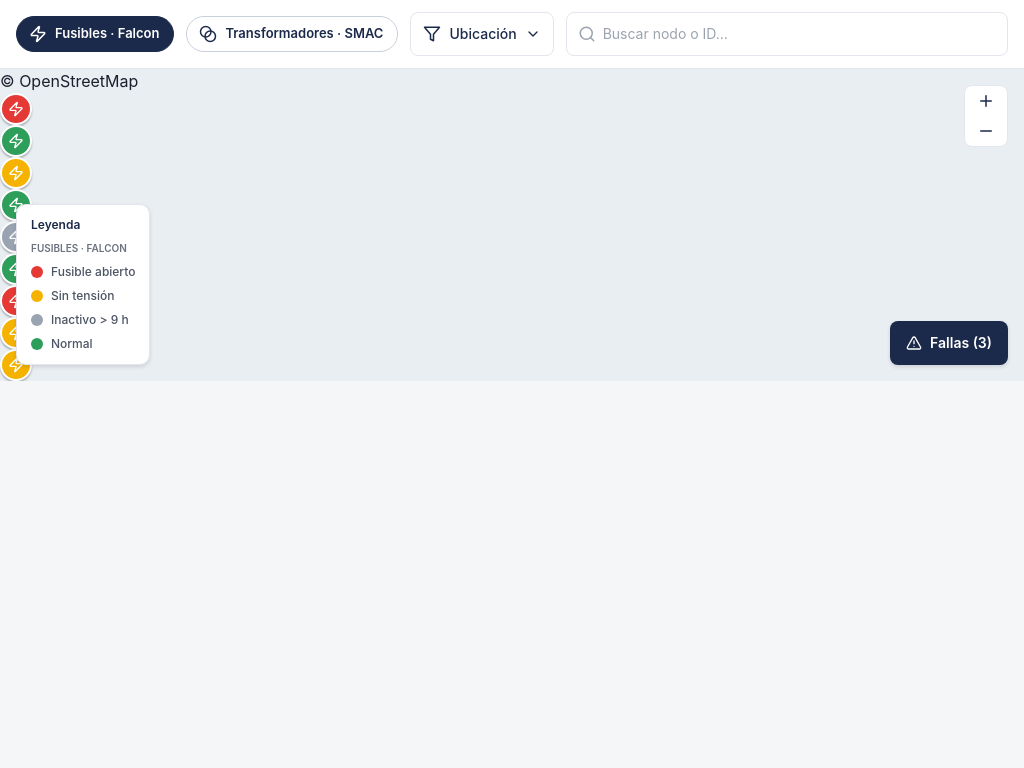
Test: LiveMonitoringPage › opens the mobile fault sheet and closes it from its close control
Click the button "Fallas (3)" at (949, 343), box [890, 321, 1008, 365]
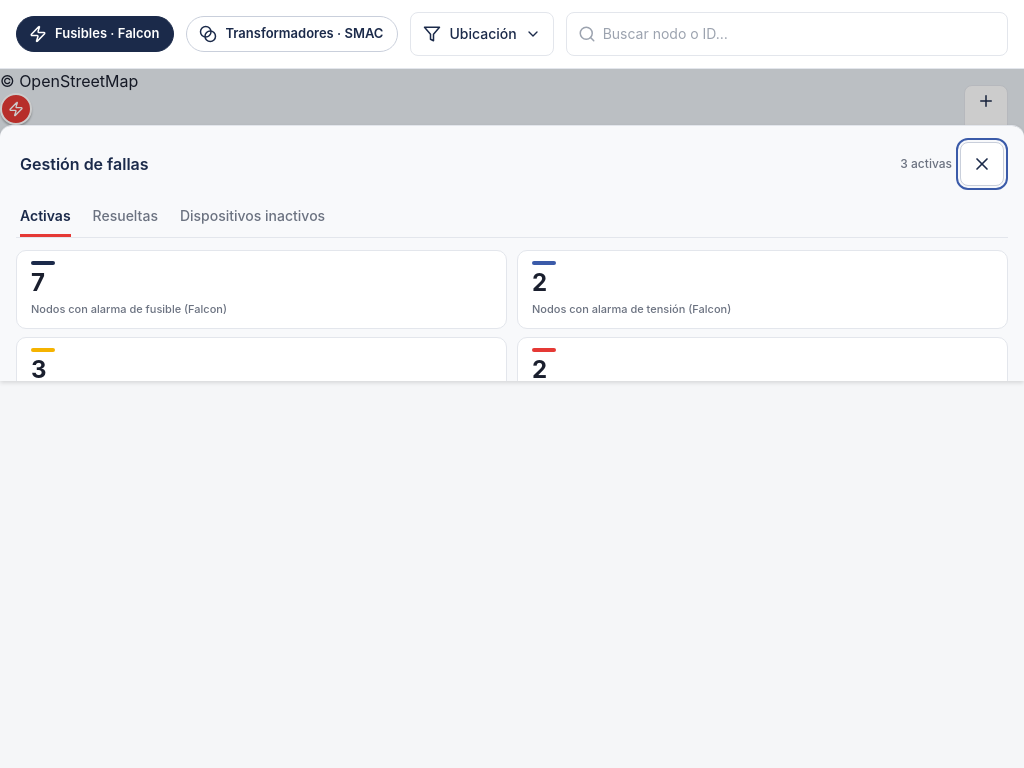
Click the button named "Cerrar panel de fallas" next to "3 activas" at (982, 164), box [960, 142, 1004, 186]
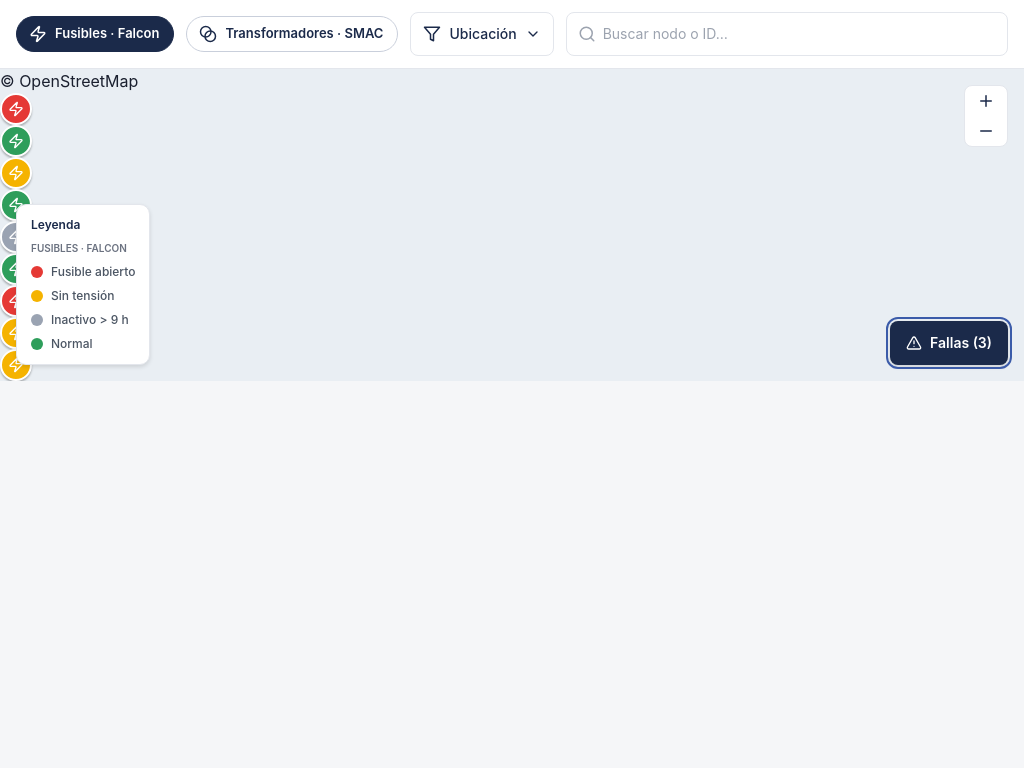
Result: the heading "Gestión de fallas" is gone
